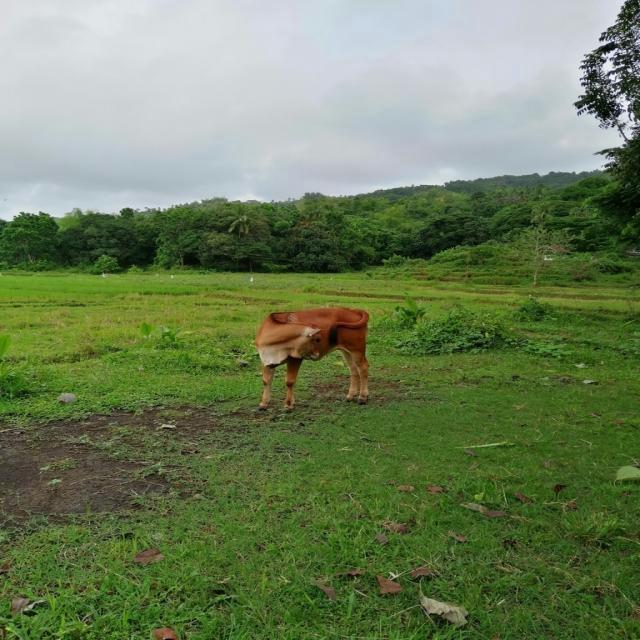cow: (255, 308, 369, 409)
